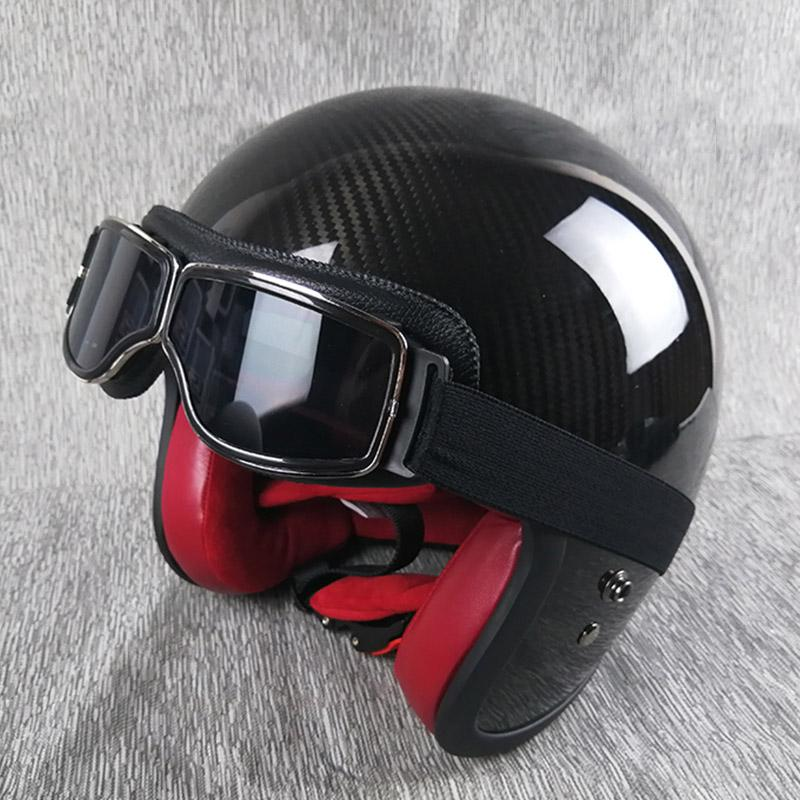with_helmet: (74, 82, 727, 756)
